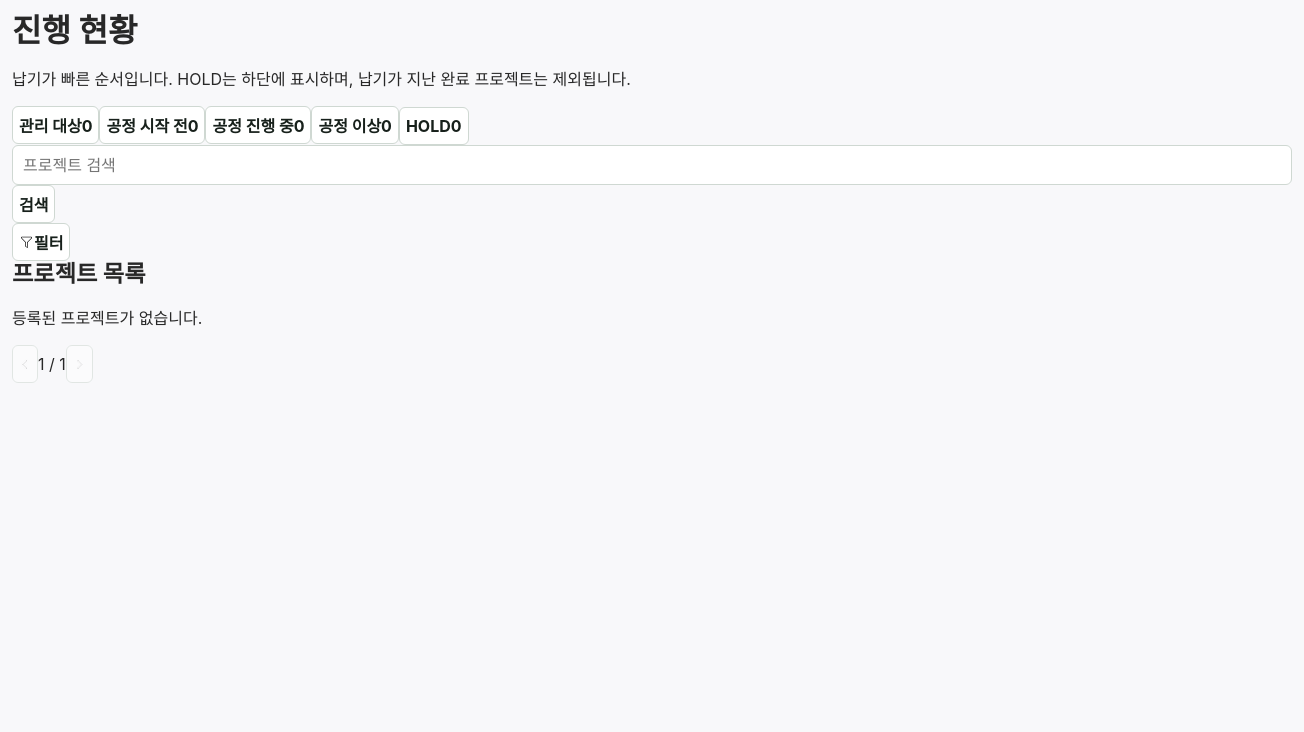
오산 홈·진행 현황 공용 목록 › 미배정이면 최초 빈 목록이고 필터 초기화 후 전체 조회가 된다
Step 1. Click the button "필터" → (41, 242), box [12,223,70,261]
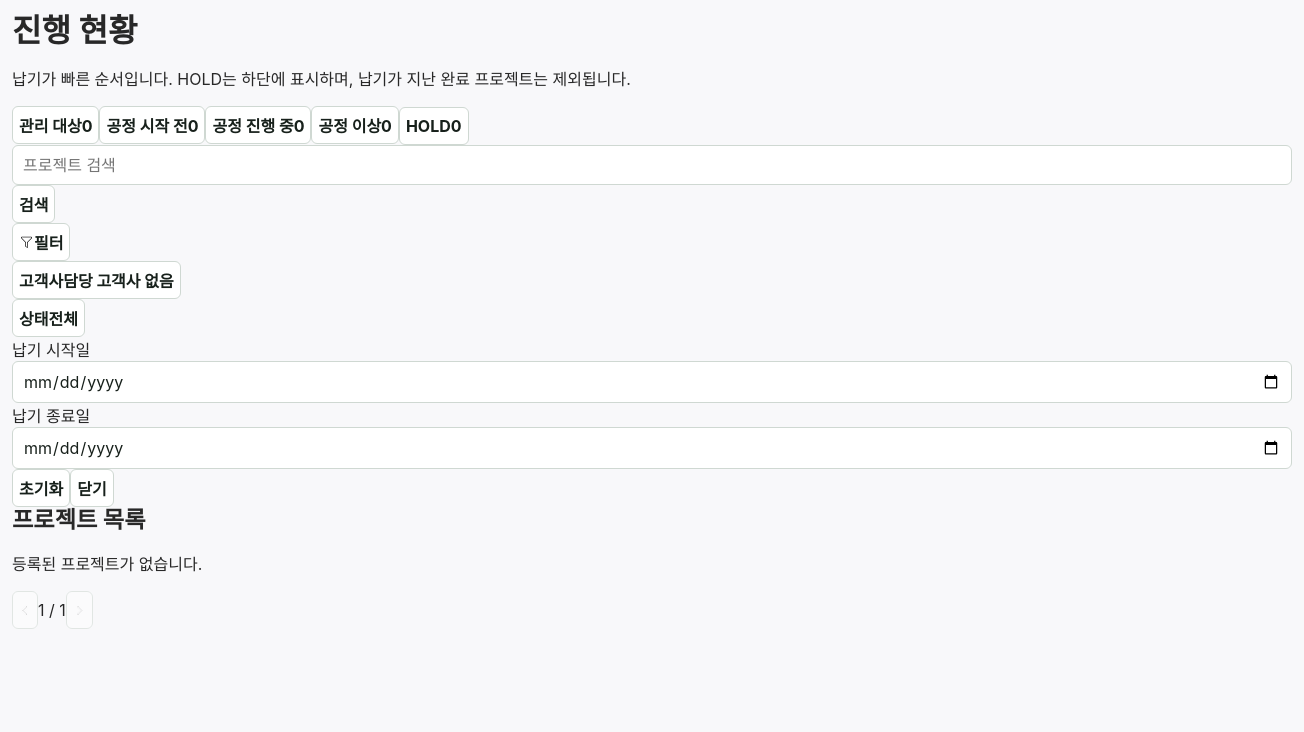
expect the button "담당 고객사 없음" is shown: met, box [12,261,181,299]
Step 2. Click the button "초기화" → (41, 488), box [12,469,70,507]
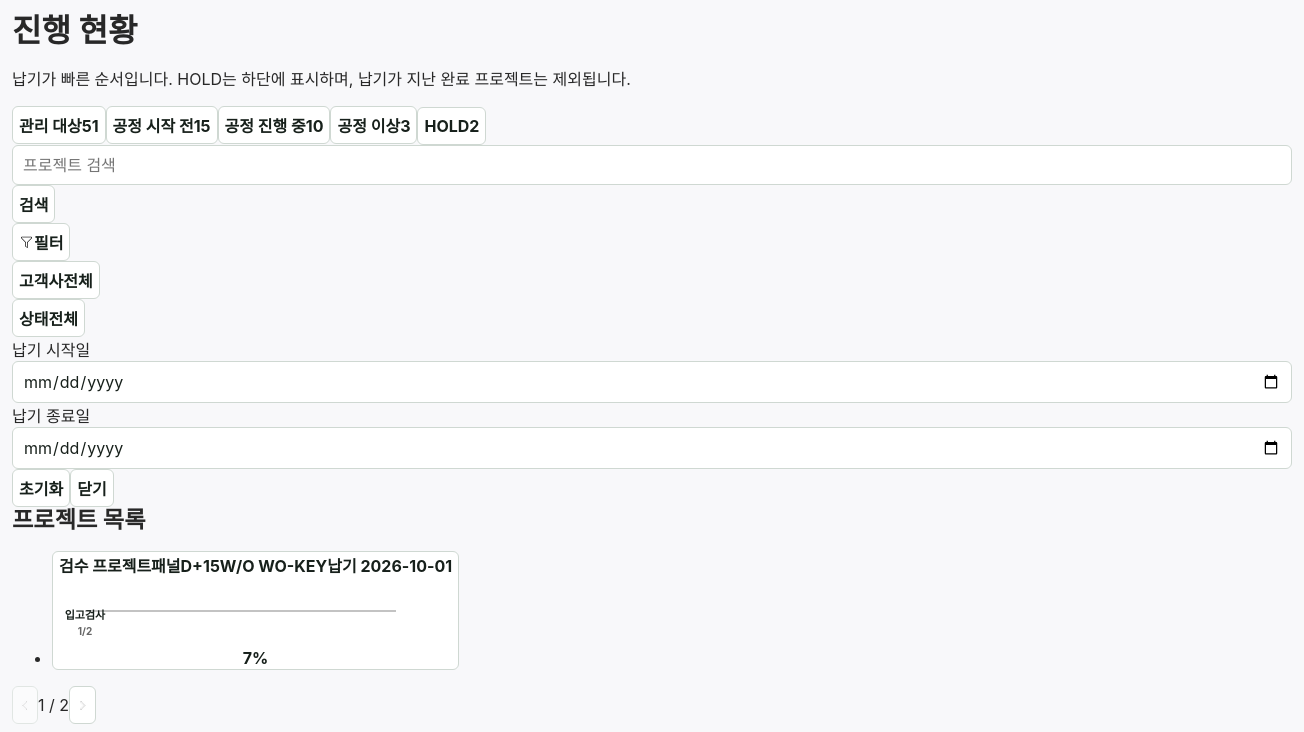
expect the button with aria-label "검수 프로젝트 진행 상세 열기" is shown: met, box [52,551,459,670]
